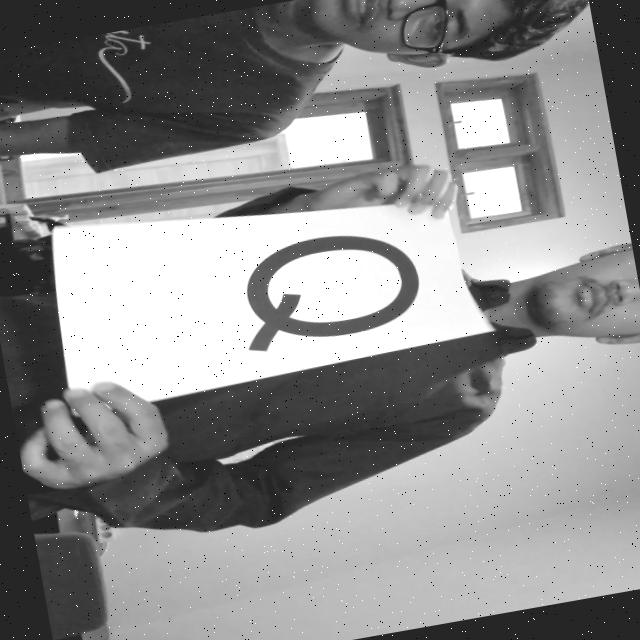q: (202, 210, 444, 373)
